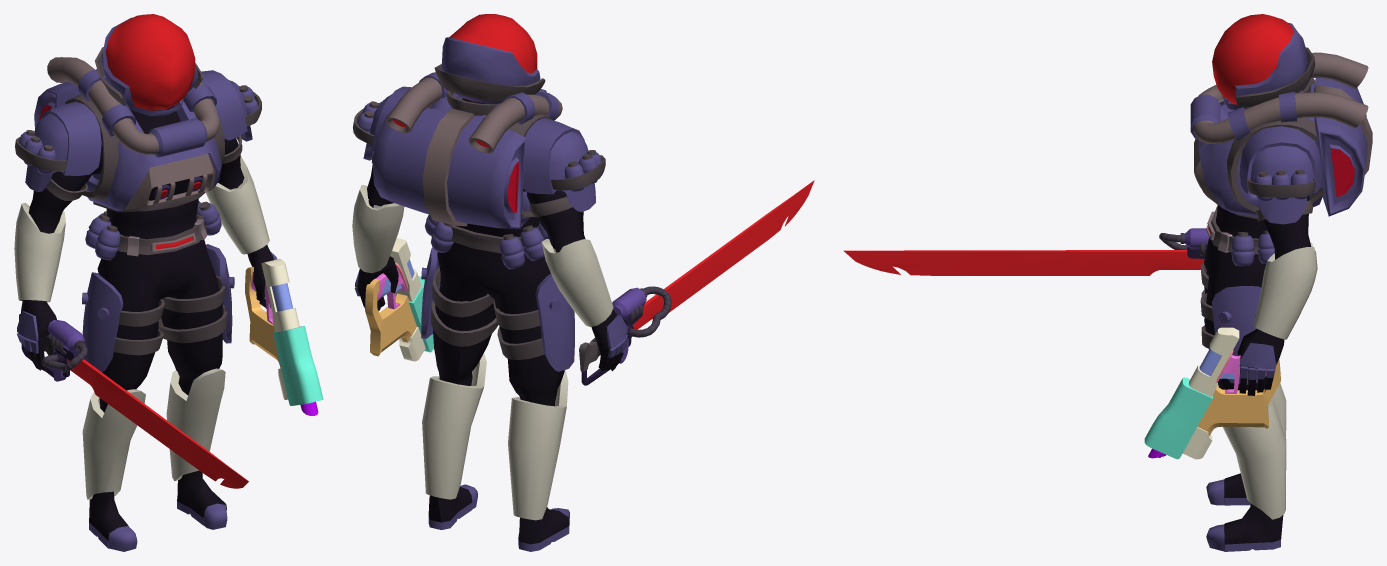
Rendered from nemmaldo.fbx.
3 renders of one model, left to right at view 1: azimuth 30°, elevation 25°; view 2: azimuth 150°, elevation 25°; view 3: azimuth 270°, elevation 25°, orthographic. The views are drawn at different scales.
Visible parts, largest first — view 1: NemmandoBody_LP, NemmandoSword, gun; view 2: NemmandoBody_LP, NemmandoSword, gun; view 3: NemmandoBody_LP, NemmandoSword, gun.
Part boxes in pixels (left/top/right/bottom): NemmandoBody_LP: left=14, top=14, right=277, bottom=551; NemmandoSword: left=19, top=313, right=248, bottom=488; gun: left=245, top=258, right=323, bottom=415; NemmandoBody_LP: left=352, top=14, right=627, bottom=551; NemmandoSword: left=579, top=180, right=814, bottom=385; gun: left=365, top=238, right=433, bottom=361; NemmandoBody_LP: left=1190, top=14, right=1372, bottom=551; NemmandoSword: left=843, top=228, right=1209, bottom=275; gun: left=1144, top=327, right=1280, bottom=459.
Bounding box in the file's own units: 462 × 851 × 809.
